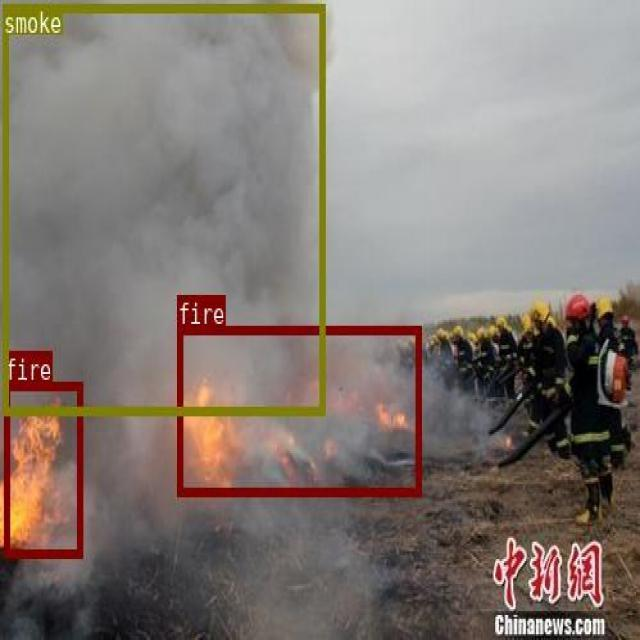fire: (177, 325, 420, 495), (3, 382, 82, 556)
smoke: (2, 3, 324, 414)
